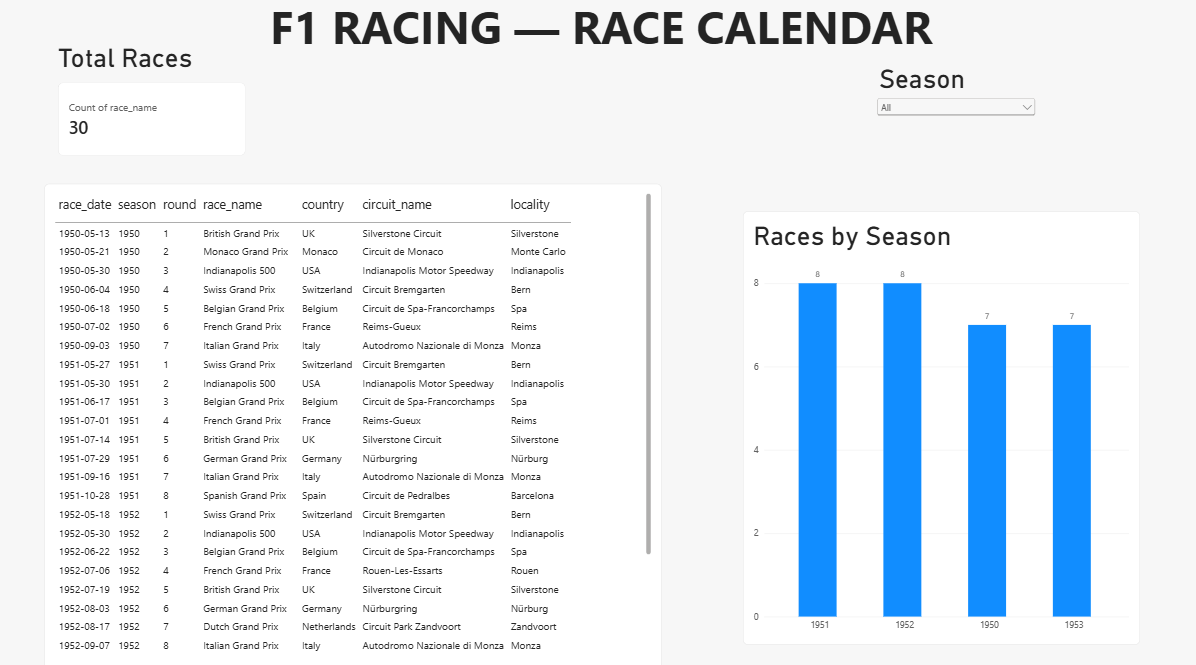

What the dashboard file says about the page in this screenshot:
{"tool":"powerbi","page":{"name":"Race Calendar","canvas":[1920,1080],"ordinal":4},"visuals":[{"type":"slicer","fields":{"Values":["presentation.season"]},"box":[1401.7,110,262.5,147.5],"z":0},{"type":"clusteredColumnChart","title":"Races by Season","fields":{"Category":["presentation.season"],"Y":["CountNonNull(presentation.race_name)"]},"box":[1191.7,346.7,635,693.3],"z":1000},{"type":"tableEx","fields":{"Values":["presentation.race_date","presentation.season","presentation.round","presentation.race_name","presentation.country","presentation.circuit_name","presentation.locality"]},"box":[73.3,301.7,988.3,778.3],"z":2000},{"type":"cardVisual","title":"Total Races","fields":{"Data":["CountNonNull(presentation.race_name)"]},"box":[96.7,76.7,300,181.8],"z":3000},{"type":"textbox","box":[10,0,1910,120],"z":4000}]}

Visuals, with their boxes in screenshot pixels (x1, y1, x2, y2), scaled from the page's 1920x1080 canvas onto the 1196x665 screenshot:
slicer - presentation.season: bbox=(873, 68, 1037, 159)
"Races by Season" clusteredColumnChart: bbox=(742, 213, 1138, 640)
tableEx - presentation.race_date x presentation.season: bbox=(46, 186, 661, 664)
"Total Races" cardVisual: bbox=(60, 47, 247, 159)
textbox: bbox=(6, 0, 1195, 74)
